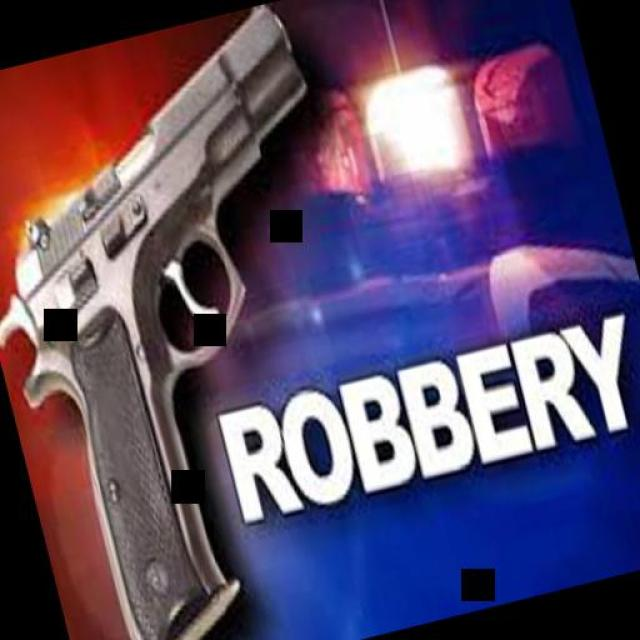gun: (0, 2, 429, 640)
